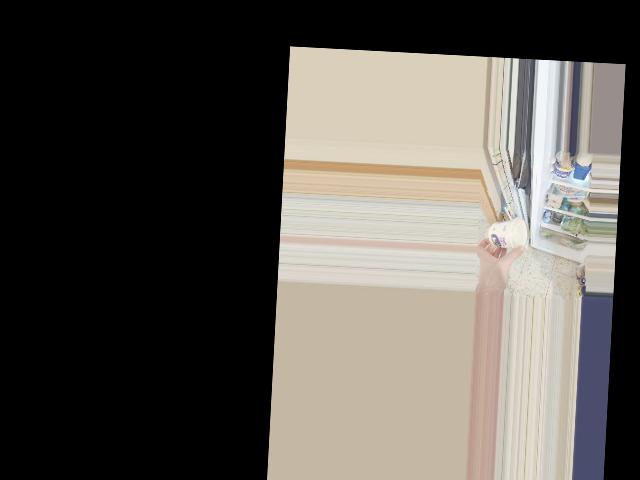cotage: (489, 217, 529, 250)
